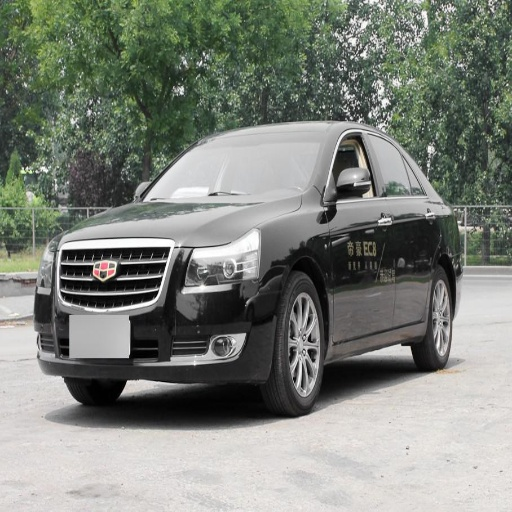front_bumper: (38, 238, 284, 384)
front_glass: (143, 133, 324, 203)
front_left_door: (326, 131, 394, 342)
